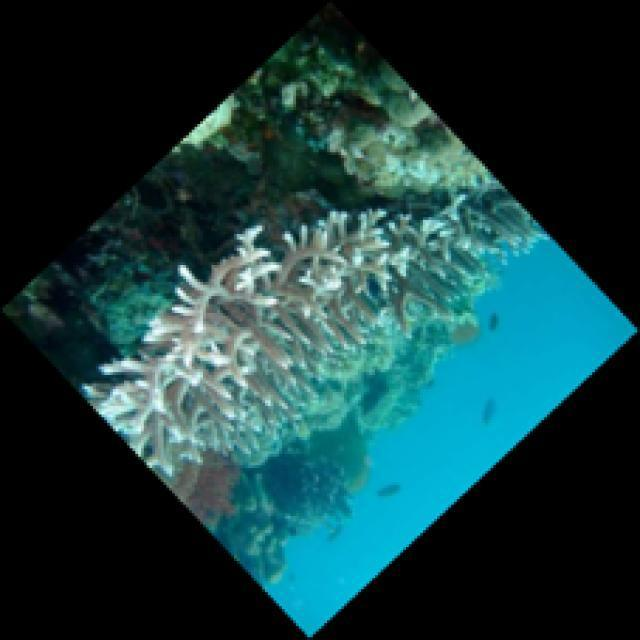Bleached: (83, 197, 469, 477)
